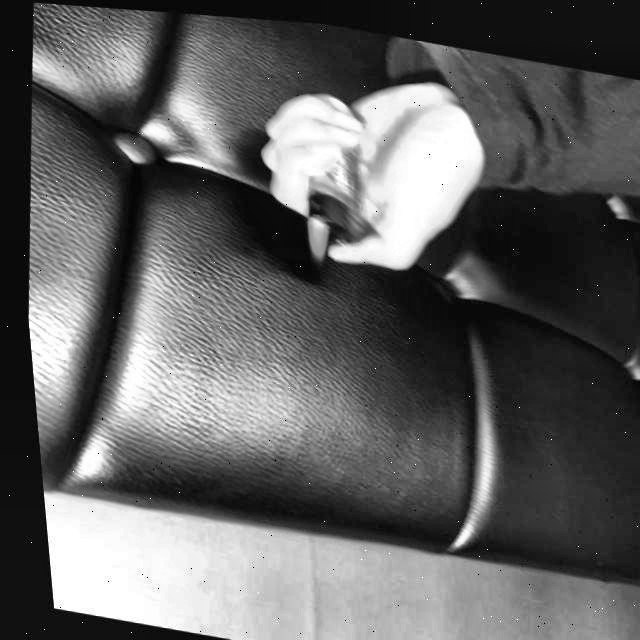Fire: (298, 211, 327, 259)
